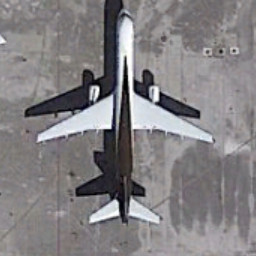Airplane: (30, 4, 224, 242)
